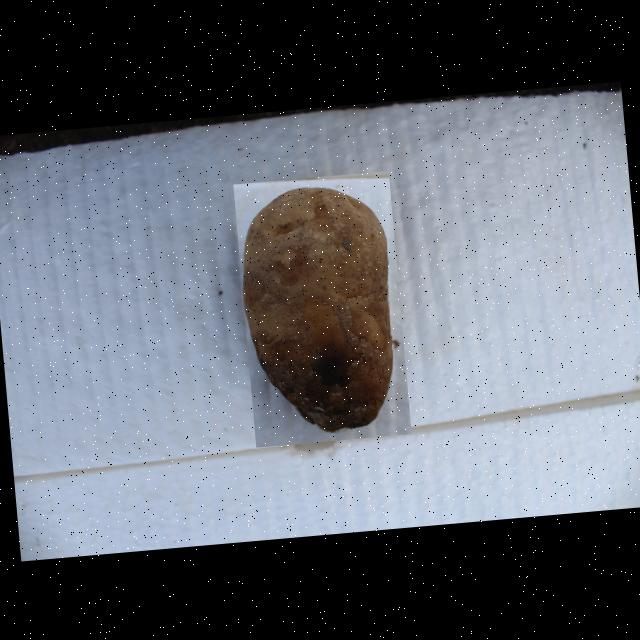Diseased-fungal potato: (232, 170, 410, 446)
